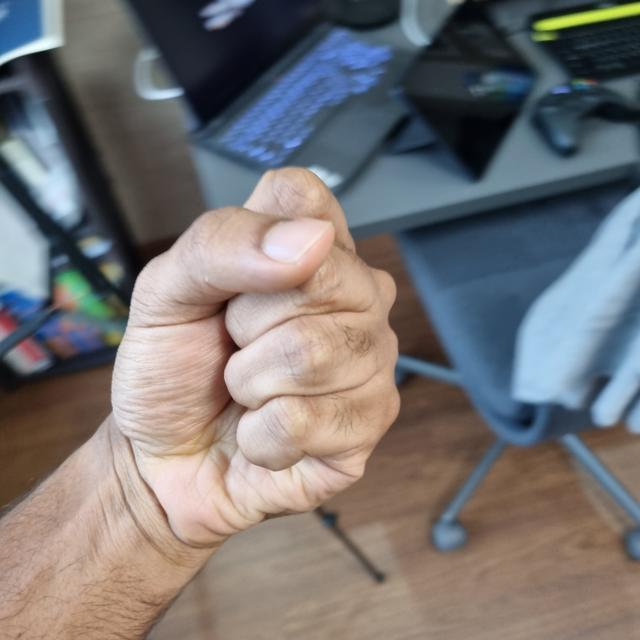Rock: (110, 167, 402, 547)
